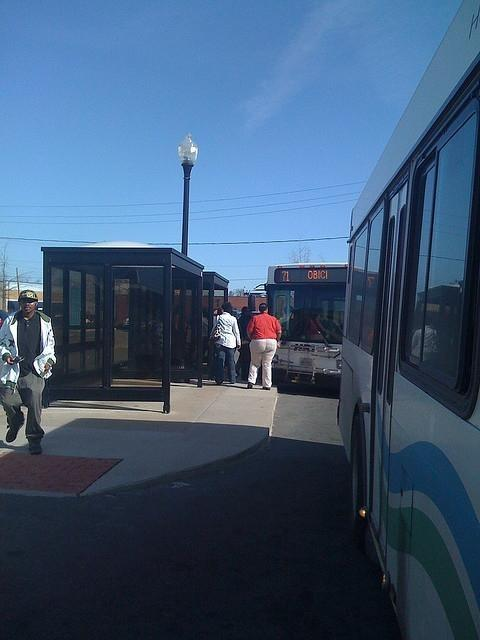bus: (338, 3, 478, 633), (266, 264, 346, 398)
